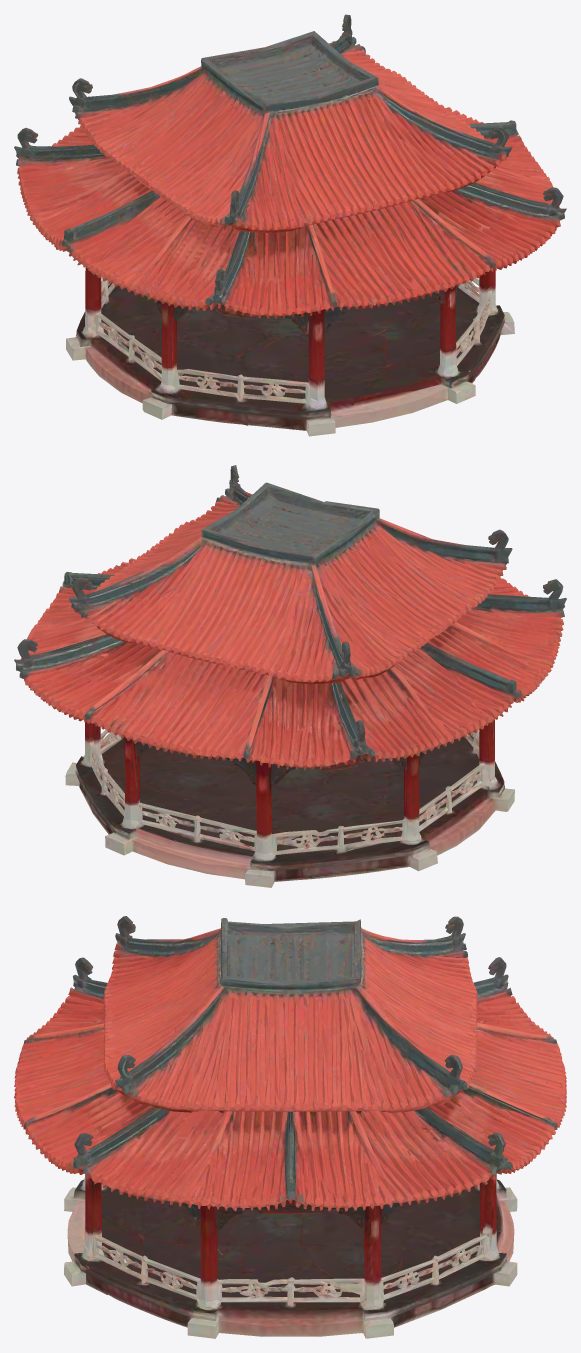
File: lib_garden_pav.glb
3 renders of one model, top to bottom at view 1: azimuth 30°, elevation 25°; view 2: azimuth 150°, elevation 25°; view 3: azimuth 270°, elevation 25°, orthographic. The views are drawn at different scales.
Visible parts, largest first — view 1: output_unwrapped; view 2: output_unwrapped; view 3: output_unwrapped.
Part boxes in pixels (left/top/right/bottom): output_unwrapped: left=14, top=14, right=566, bottom=436; output_unwrapped: left=14, top=465, right=566, bottom=887; output_unwrapped: left=14, top=916, right=566, bottom=1338.
Size of the model in its own units: 2 by 1.15 by 1.96.
Materials: 1 (1 with a texture image).
